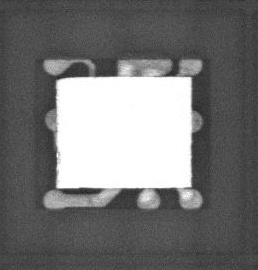DIE_INK: (56, 146, 62, 181)
